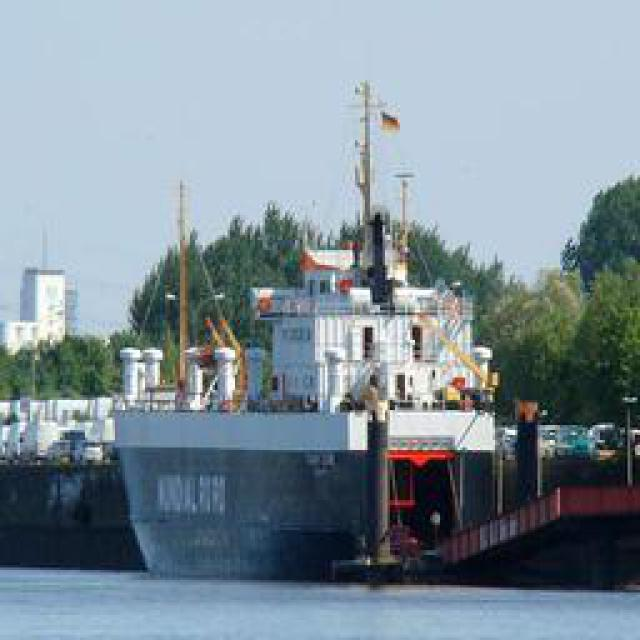Ship: (104, 81, 547, 574)
